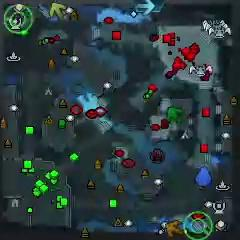p1: (195, 166, 212, 186)
x2: (50, 2, 66, 20)
x3: (137, 0, 156, 15)
x4: (166, 106, 183, 123)
x5: (165, 220, 183, 237)
